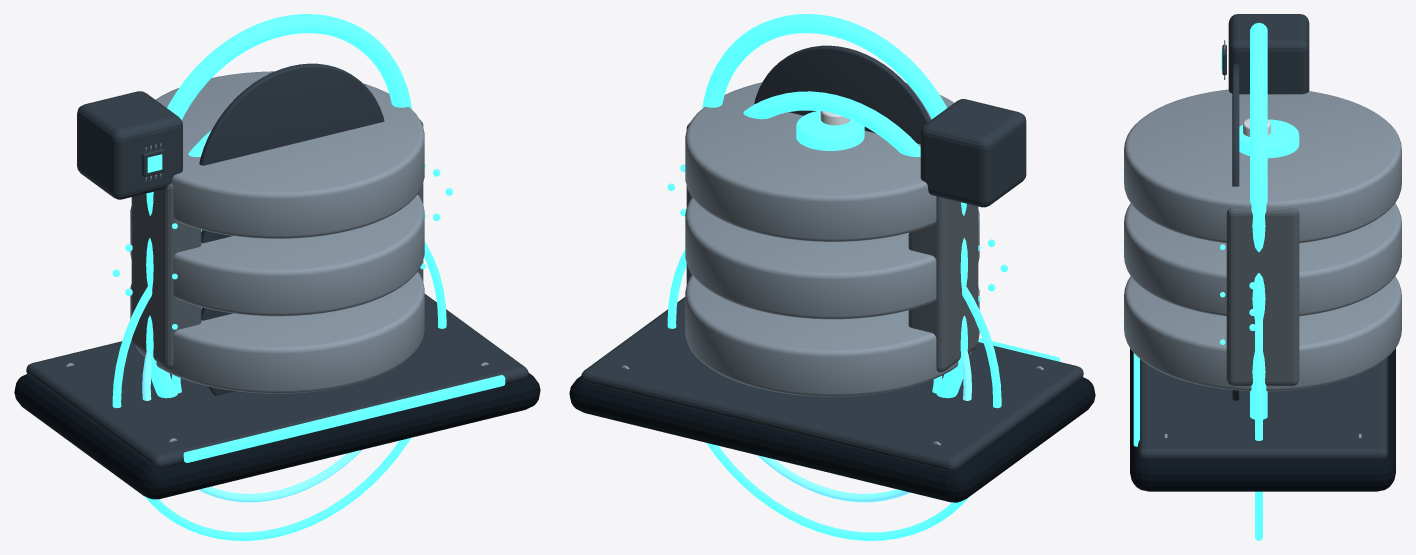
File: Source.glb
3 views of the same model, side by side, from view 1: azimuth 30°, elevation 25°; view 2: azimuth 150°, elevation 25°; view 3: azimuth 270°, elevation 25° (orthographic). The views are drawn at different scales.
Visible parts, largest first — view 1: Source_Disk_2, Source_Base1, Source_Disk_0, Source_Disk_1, Source_Base0, Source_Face_2, Source_SensorBox, Source_Clamp_-1, Source_Glow_2, Source_Holo_0, Source_FrontGlow, Source_Holo_1 (+1 smaller); view 2: Source_Base1, Source_Disk_2, Source_Disk_0, Source_Disk_1, Source_Base0, Source_SensorBox, Source_Face_2, Source_Clamp_-1, Source_Glow_2, Source_Holo_0, Source_Glow_1, Source_Core (+2 smaller); view 3: Source_Disk_2, Source_Base1, Source_Disk_0, Source_Disk_1, Source_Clamp_1, Source_Base0, Source_SensorBox, Source_Glow_2, Source_Holo_0, Source_Core, Source_Face_2, Source_FrontGlow (+2 smaller).
Boxes of the visible parts, box(x1,y1,x2,y2) form: Source_Disk_2: box(155, 71, 424, 238); Source_Base1: box(26, 294, 528, 468); Source_Disk_0: box(130, 272, 424, 393); Source_Disk_1: box(130, 194, 424, 316); Source_Base0: box(14, 373, 540, 499); Source_Face_2: box(199, 63, 384, 239); Source_SensorBox: box(77, 91, 182, 199); Source_Clamp_-1: box(131, 183, 201, 369); Source_Glow_2: box(146, 14, 411, 215); Source_Holo_0: box(112, 241, 446, 540); Source_FrontGlow: box(183, 375, 505, 462); Source_Holo_1: box(142, 349, 362, 502); Source_Base1: box(581, 297, 1083, 471); Source_Disk_2: box(685, 82, 953, 241); Source_Disk_0: box(685, 275, 979, 396); Source_Disk_1: box(685, 197, 979, 319); Source_Base0: box(569, 376, 1095, 502); Source_SensorBox: box(920, 99, 1026, 207); Source_Face_2: box(754, 45, 930, 144); Source_Clamp_-1: box(908, 196, 978, 372); Source_Glow_2: box(702, 14, 966, 215); Source_Holo_0: box(667, 249, 1001, 540); Source_Glow_1: box(743, 91, 967, 289); Source_Core: box(796, 111, 864, 150); Source_Disk_2: box(1124, 89, 1401, 243); Source_Base1: box(1138, 357, 1387, 459); Source_Disk_0: box(1124, 276, 1401, 391); Source_Disk_1: box(1124, 203, 1401, 316); Source_Clamp_1: box(1226, 207, 1299, 386); Source_Base0: box(1130, 348, 1395, 491); Source_SensorBox: box(1228, 14, 1309, 94); Source_Glow_2: box(1250, 22, 1267, 251); Source_Holo_0: box(1255, 318, 1262, 540); Source_Core: box(1239, 119, 1299, 158); Source_Face_2: box(1232, 64, 1239, 186); Source_FrontGlow: box(1133, 353, 1139, 446).
Size of the model in its own units: 2.16 by 2.68 by 1.38.
